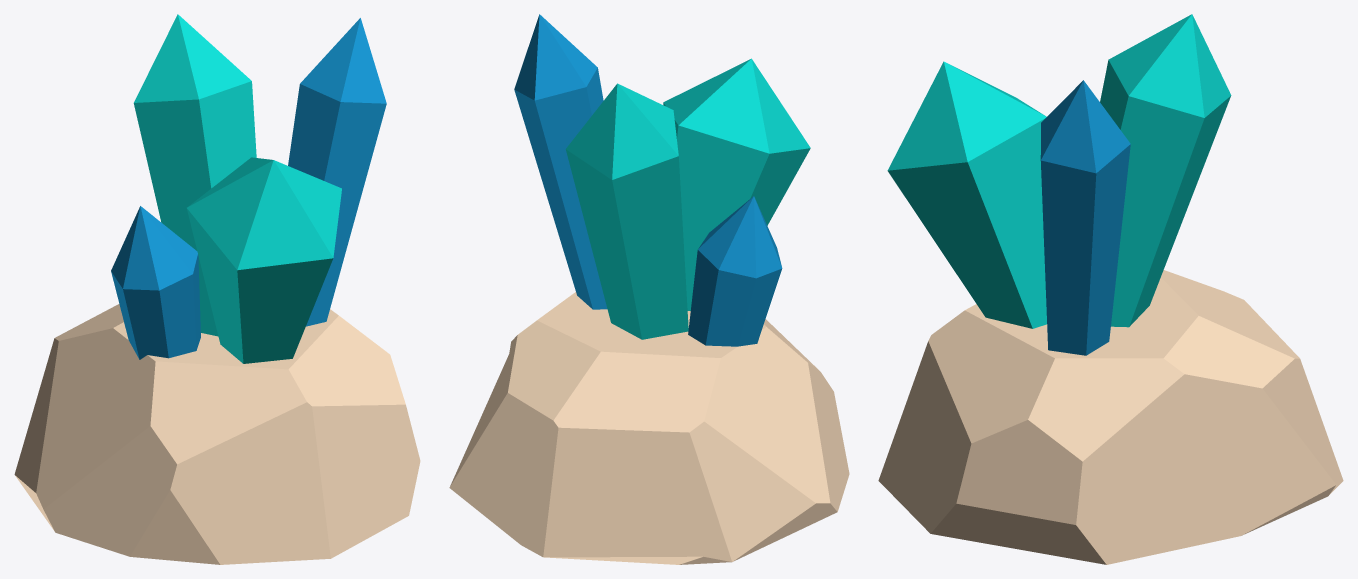
The model's file is MineralNode_12_B.fbx.
3 renders of one model, left to right at view 1: azimuth 30°, elevation 25°; view 2: azimuth 150°, elevation 25°; view 3: azimuth 270°, elevation 25°, orthographic. The views are drawn at different scales.
Visible parts, largest first — view 1: MineralNode_12_B; view 2: MineralNode_12_B; view 3: MineralNode_12_B.
Boxes of the visible parts, box(x1,y1,x2,y2) form: MineralNode_12_B: box(14, 14, 420, 564); MineralNode_12_B: box(449, 14, 849, 564); MineralNode_12_B: box(878, 14, 1343, 564).
Size of the model in its own units: 81.16 by 98.79 by 88.32.
